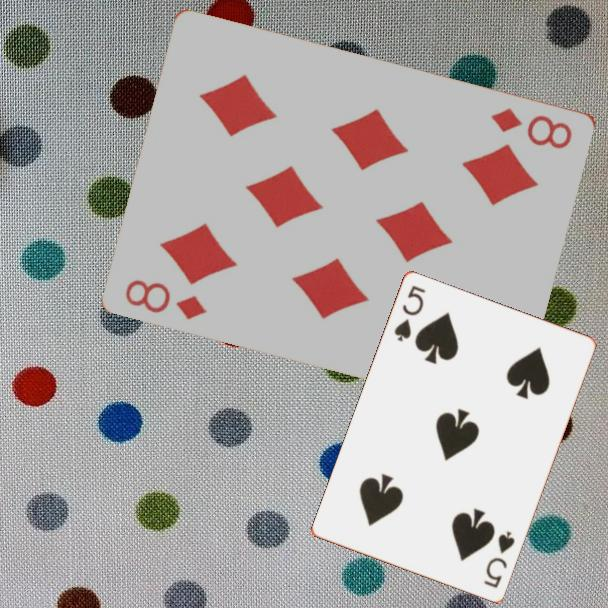d08: (487, 103, 576, 152), (122, 275, 211, 322)
s05: (481, 528, 518, 591), (391, 282, 428, 345)
